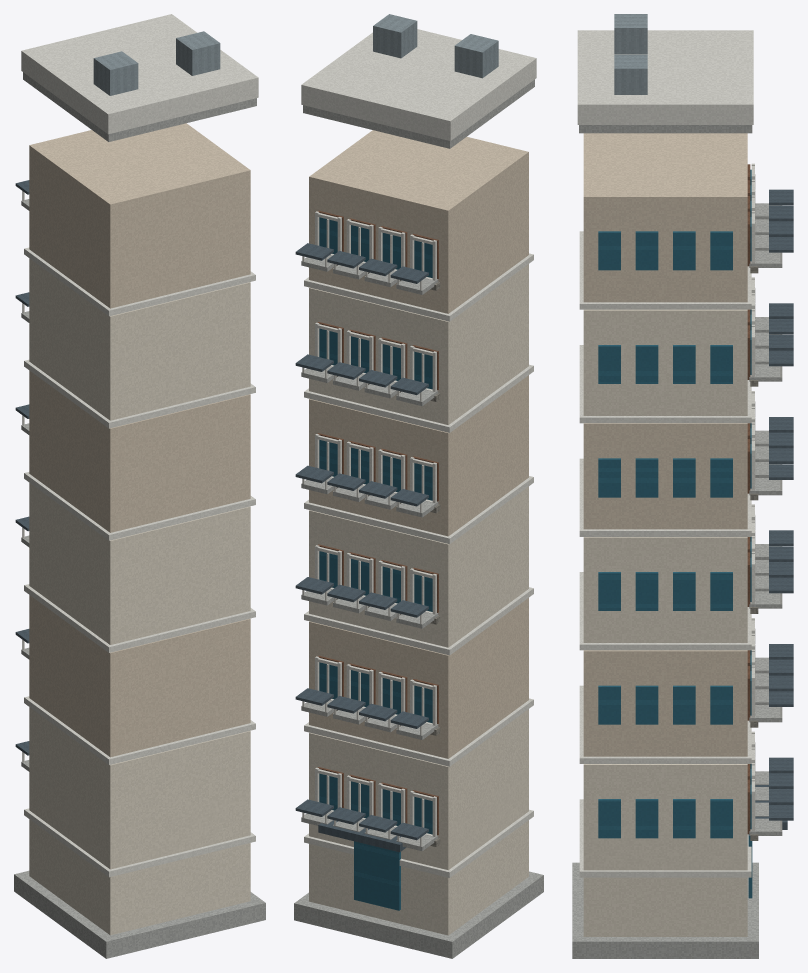
The model's file is apartment_tower.gltf.
The picture shows the model from 3 angles, left to right: view 1: azimuth 30°, elevation 25°; view 2: azimuth 150°, elevation 25°; view 3: azimuth 270°, elevation 25°; orthographic projection. The views are drawn at different scales.
Visible parts, largest first — view 1: apartment_root; view 2: apartment_root; view 3: apartment_root.
Part boxes in pixels (x1,y1,x2,y2): apartment_root: [14, 14, 265, 958]; apartment_root: [294, 14, 543, 958]; apartment_root: [572, 14, 793, 958].
Bounding box in the file's own units: 3.5 × 18.17 × 4.15.
9 materials, 9 textured.
